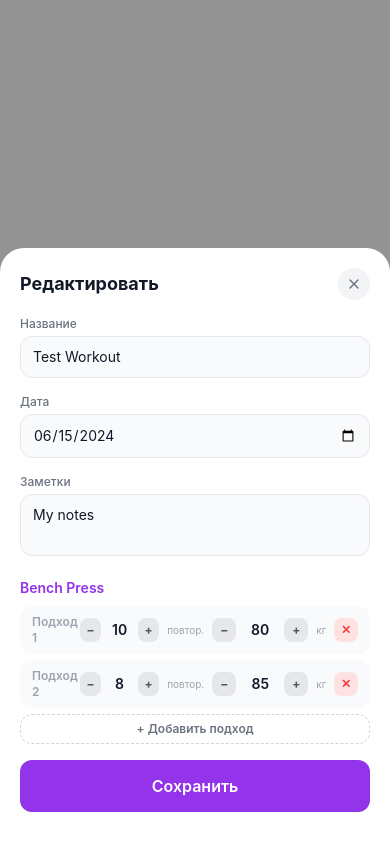
Test: EditWorkoutSheet › adds a set when add set button is clicked
The image size is (390, 844).
Click the button "+ Добавить подход": (195, 729) [20,714,370,744]
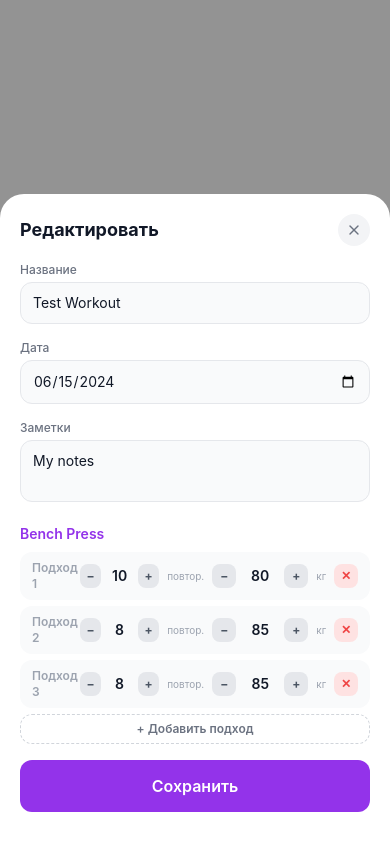
expect the text "Подход 3" is shown: met, box [32,668,72,700]
